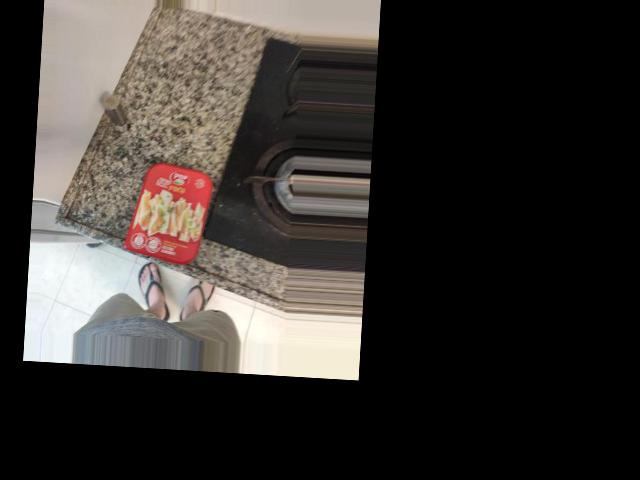cheese: (126, 67, 219, 182)
